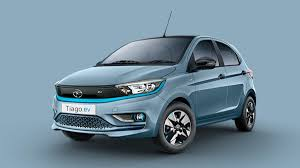Tiago: (51, 30, 259, 152)
